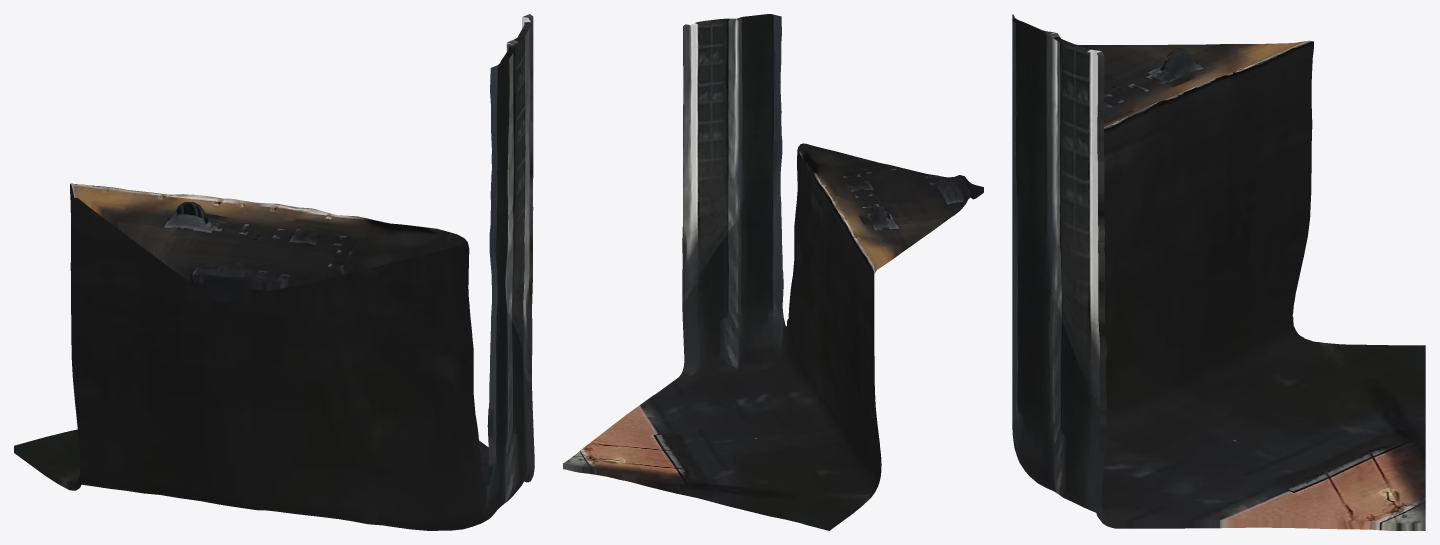
File: z20-167778-405234-h0-yup-uvflip-v3-world.glb
3 renders of one model, left to right at view 1: azimuth 30°, elevation 25°; view 2: azimuth 150°, elevation 25°; view 3: azimuth 270°, elevation 25°, orthographic. The views are drawn at different scales.
Bounding box in the file's own units: 30.16 × 38.44 × 30.32.
1 material, 1 textured.
